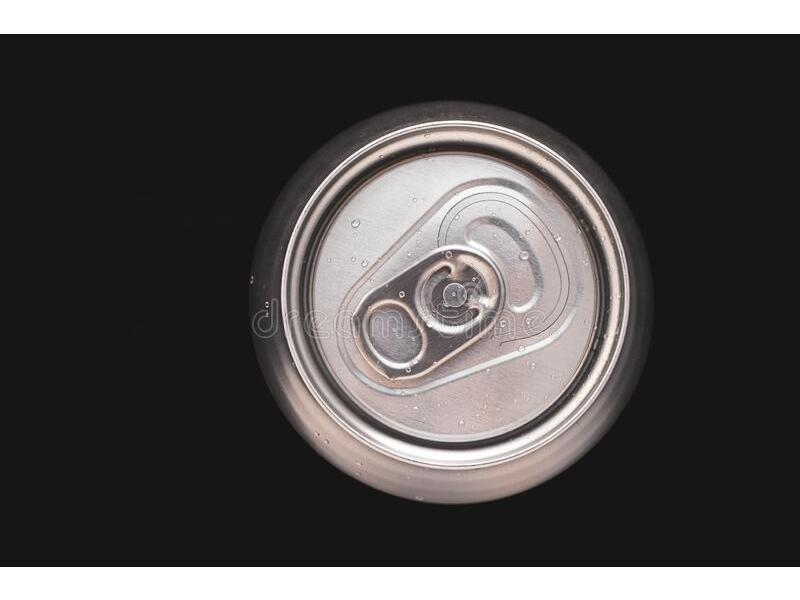can: (222, 78, 681, 528)
